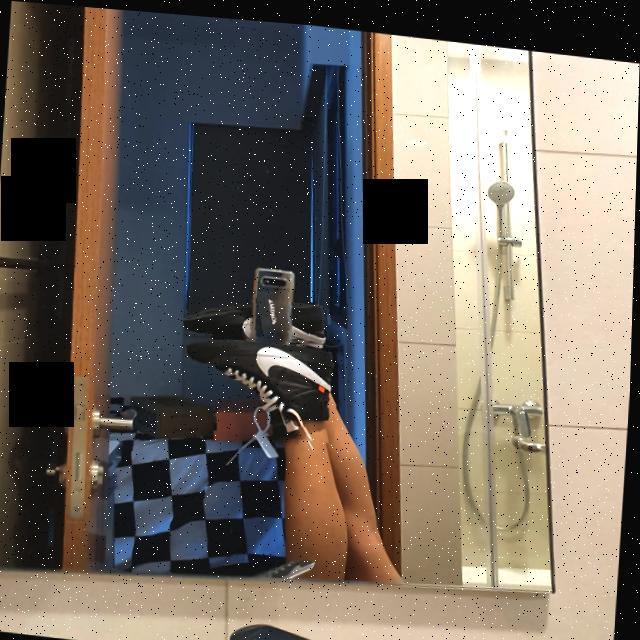shoe: (183, 331, 342, 439), (186, 286, 330, 344)
